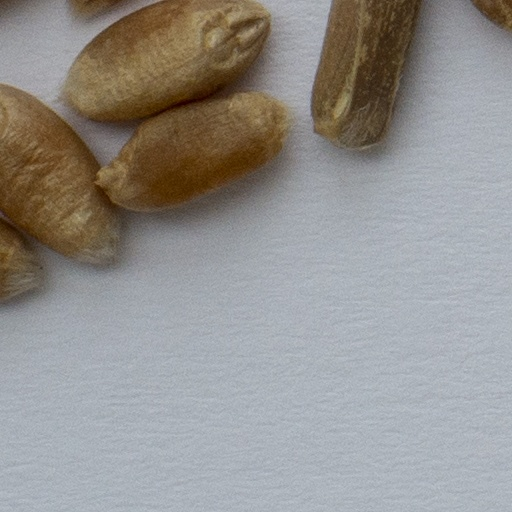Peel-poly: (311, 0, 416, 149)
